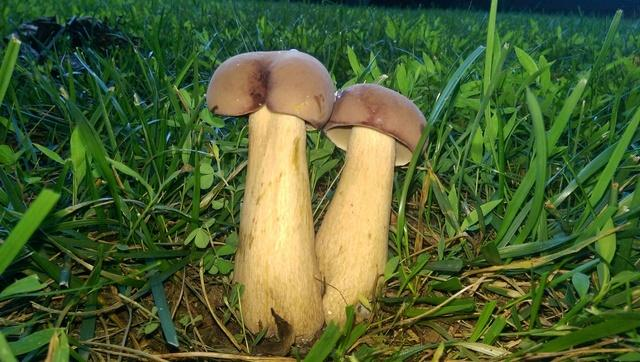Non-edible Mushroom: (205, 47, 335, 351), (315, 81, 429, 332)
